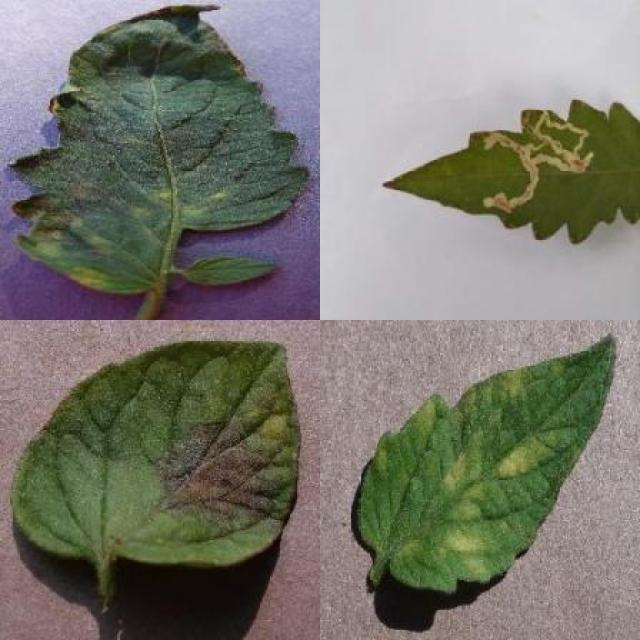Late Blight: (8, 337, 302, 570)
Leaf Miner: (378, 96, 640, 246)
Leaf Mold: (10, 2, 309, 295), (359, 335, 615, 595)
